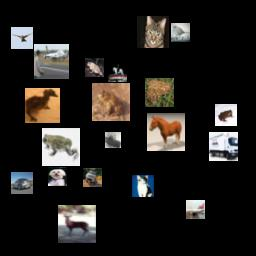airplane: (34, 44, 69, 79), (186, 200, 205, 219)
automobile: (11, 172, 33, 194), (83, 168, 102, 187)
bird: (25, 88, 60, 123), (11, 27, 33, 49), (171, 23, 190, 42)
cat: (137, 16, 169, 48), (132, 175, 154, 197)
deer: (58, 205, 96, 243)
dog: (48, 167, 67, 186)
frog: (42, 128, 80, 166), (92, 83, 130, 121), (145, 78, 174, 107), (215, 104, 237, 126), (85, 58, 104, 77)
ship: (105, 132, 121, 148)
truck: (209, 132, 238, 161)
